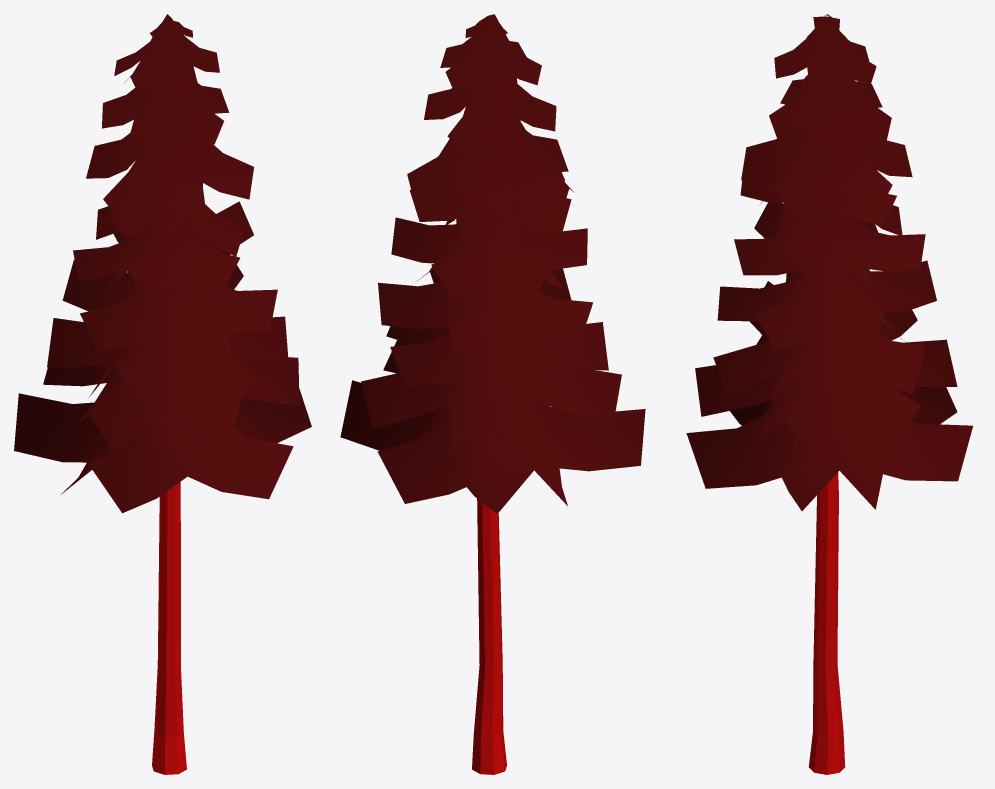
The model's file is SM_Tree_Pine_Large_02.gltf.
3 views of the same model, side by side, from view 1: azimuth 30°, elevation 25°; view 2: azimuth 150°, elevation 25°; view 3: azimuth 270°, elevation 25° (orthographic).
Visible parts, largest first — view 1: SM_Tree_Pine_Large_02; view 2: SM_Tree_Pine_Large_02; view 3: SM_Tree_Pine_Large_02.
Part boxes in pixels (x1=…): SM_Tree_Pine_Large_02: x1=14, y1=14, x2=311, y2=774; SM_Tree_Pine_Large_02: x1=340, y1=14, x2=645, y2=774; SM_Tree_Pine_Large_02: x1=686, y1=14, x2=972, y2=774.
Bounding box in the file's own units: 3.14 × 8.59 × 3.17.
